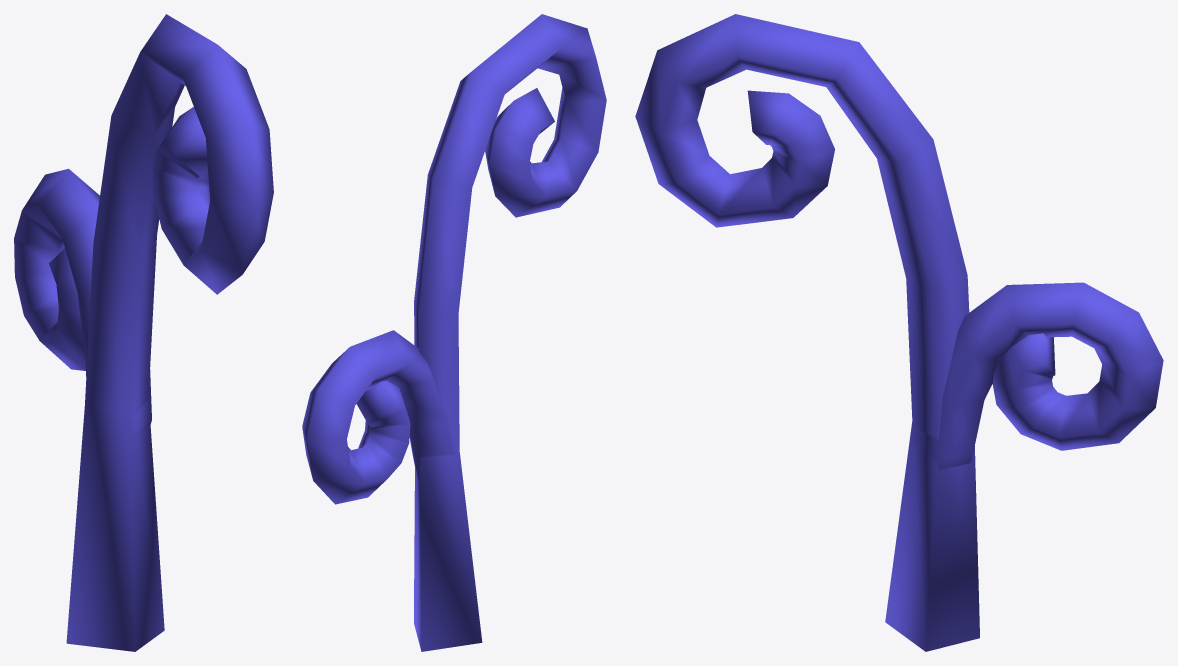
The model's file is C_Cumulous_1.fbx.
The picture shows the model from 3 angles, left to right: view 1: azimuth 30°, elevation 25°; view 2: azimuth 150°, elevation 25°; view 3: azimuth 270°, elevation 25°; orthographic projection. The views are drawn at different scales.
Visible parts, largest first — view 1: CurlyCurve.002; view 2: CurlyCurve.002; view 3: CurlyCurve.002.
Part boxes in pixels (x1,y1,x2,y2): CurlyCurve.002: (14, 14, 273, 651); CurlyCurve.002: (302, 14, 606, 651); CurlyCurve.002: (635, 14, 1163, 651).
Bounding box in the file's own units: 10.78 × 59.03 × 45.67.
